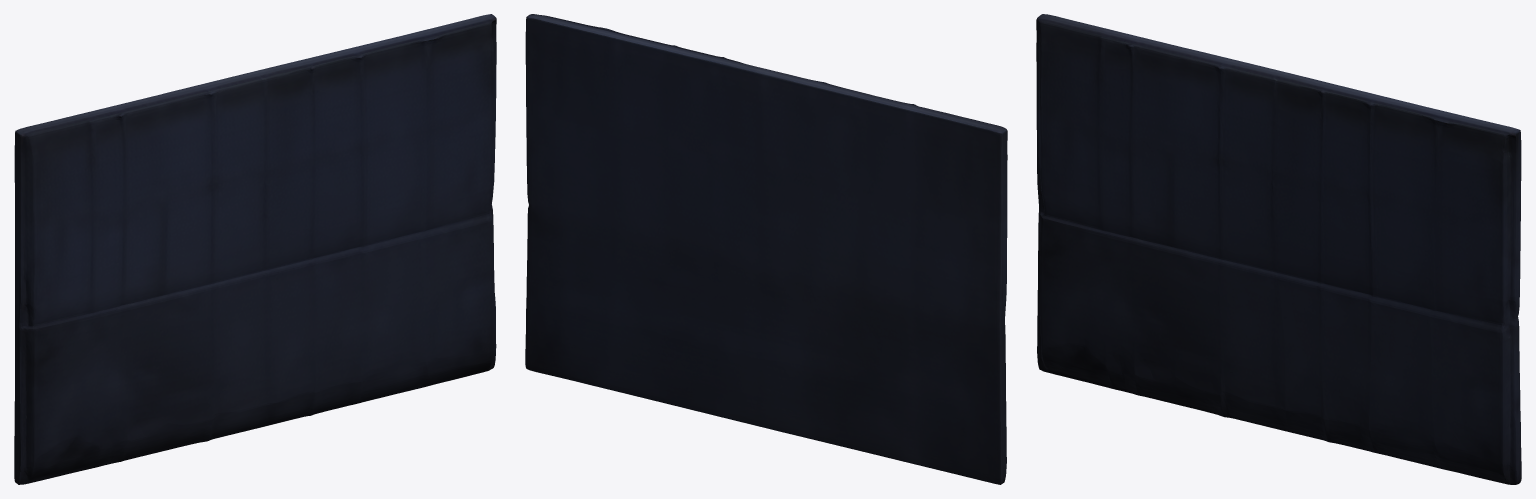
The model's file is headboard_classic_b_grey_queen.glb.
The picture shows the model from 3 angles, left to right: view 1: azimuth 30°, elevation 25°; view 2: azimuth 150°, elevation 25°; view 3: azimuth 330°, elevation 25°; orthographic projection.
Parts seen in each view (by area): view 1: world; view 2: world; view 3: world.
Part boxes in pixels (box(x1,y1,x2,y2)): world: box(14, 14, 496, 484); world: box(525, 14, 1007, 484); world: box(1036, 14, 1521, 484).
Size of the model in its own units: 0.9996 by 0.7082 by 0.0451.
Materials: 1 (1 with a texture image).
